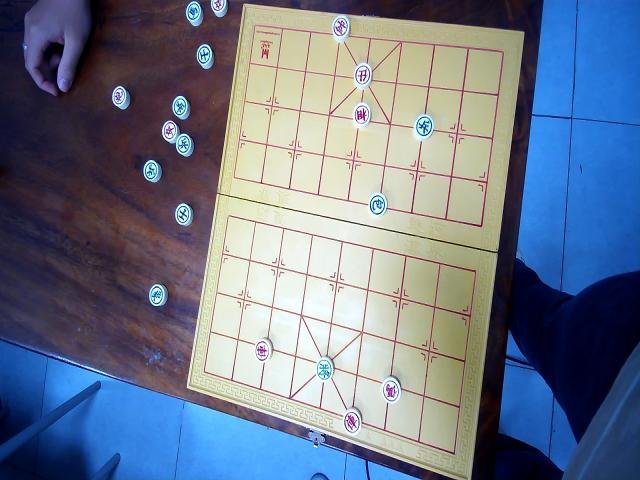piece: (413, 114, 434, 142), (380, 375, 400, 404), (352, 101, 371, 129), (353, 62, 372, 89), (332, 14, 350, 42), (344, 408, 362, 436), (367, 192, 387, 217), (148, 284, 168, 308), (196, 44, 214, 70), (185, 0, 203, 26), (254, 337, 272, 363), (315, 356, 333, 382), (172, 95, 190, 119), (112, 85, 130, 109), (142, 160, 160, 184), (175, 133, 193, 157), (161, 120, 179, 143), (175, 203, 193, 226), (210, 0, 228, 18)
